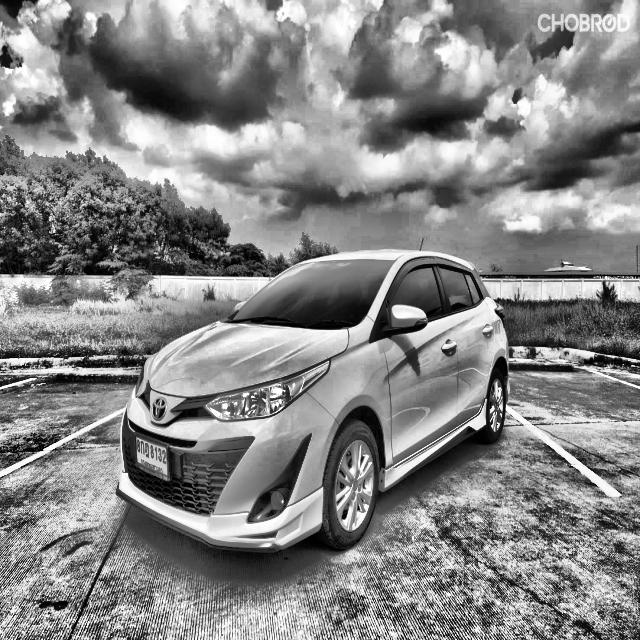license-plate: (133, 432, 174, 486)
